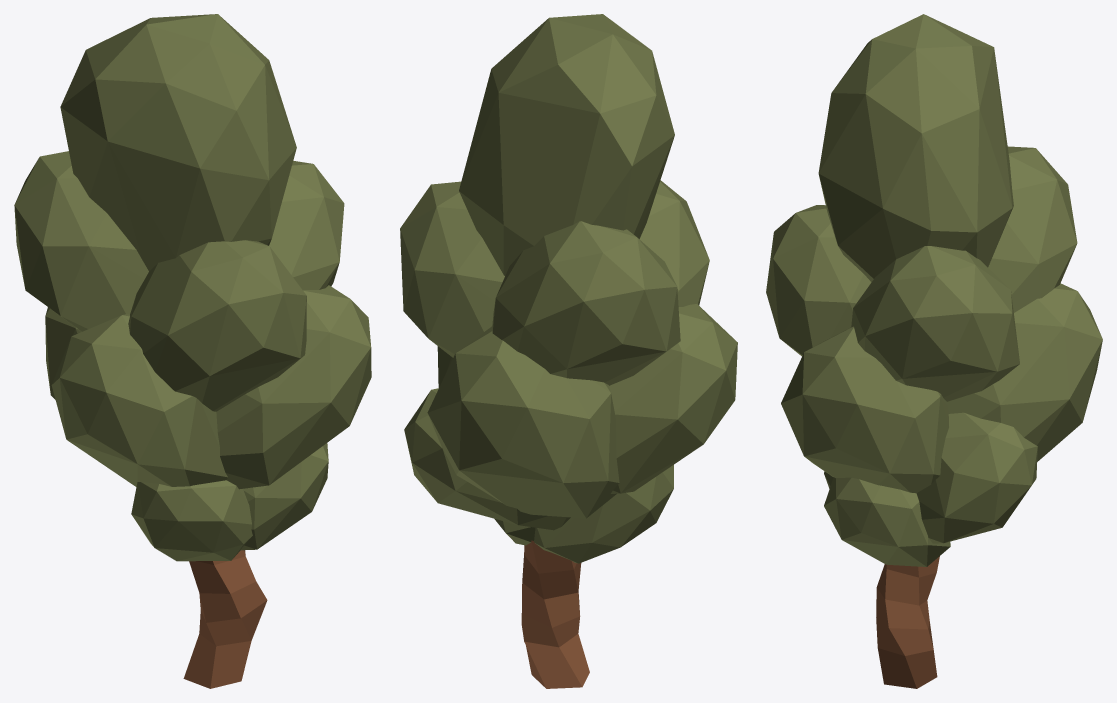
The model's file is Tree_03.fbx.
The picture shows the model from 3 angles, left to right: view 1: azimuth 30°, elevation 25°; view 2: azimuth 150°, elevation 25°; view 3: azimuth 270°, elevation 25°; orthographic projection. The views are drawn at different scales.
Parts seen in each view (by area): view 1: Icosphere.007, Icosphere.009, Icosphere.006, Icosphere.004, Icosphere.008, Icosphere.001, Cylinder.002, Icosphere.010, Icosphere.002, Icosphere.005; view 2: Icosphere.007, Icosphere.005, Icosphere.008, Icosphere.006, Icosphere.010, Cylinder.002, Icosphere.001, Icosphere.003, Icosphere.009, Icosphere.002; view 3: Icosphere.007, Icosphere.010, Icosphere.004, Icosphere.005, Icosphere.003, Icosphere.009, Icosphere.008, Icosphere.002, Cylinder.002.
Boxes of the visible parts, x1,y1,x2,y2 form: Icosphere.007: (60,14,296,271); Icosphere.009: (128,240,306,411); Icosphere.006: (51,314,227,486); Icosphere.004: (216,285,371,489); Icosphere.008: (14,151,148,331); Icosphere.001: (131,480,252,561); Cylinder.002: (183,550,267,688); Icosphere.010: (269,160,344,290); Icosphere.002: (240,443,328,550); Icosphere.005: (45,307,81,399); Icosphere.007: (459,14,674,275); Icosphere.005: (427,326,619,518); Icosphere.008: (492,221,680,385); Icosphere.006: (609,303,737,493); Icosphere.010: (400,181,504,357); Cylinder.002: (521,540,589,688); Icosphere.001: (534,465,673,563); Icosphere.003: (404,388,570,530); Icosphere.009: (639,180,709,306); Icosphere.002: (494,518,535,545); Icosphere.007: (818,14,1013,281); Icosphere.010: (851,246,1019,401); Icosphere.004: (781,326,948,493); Icosphere.005: (947,283,1102,461); Icosphere.003: (916,412,1037,543); Icosphere.009: (766,205,871,356); Icosphere.008: (988,146,1077,312); Icosphere.002: (824,477,950,566); Cylinder.002: (876,556,939,688).
Size of the model in its own units: 187 by 402 by 193.
